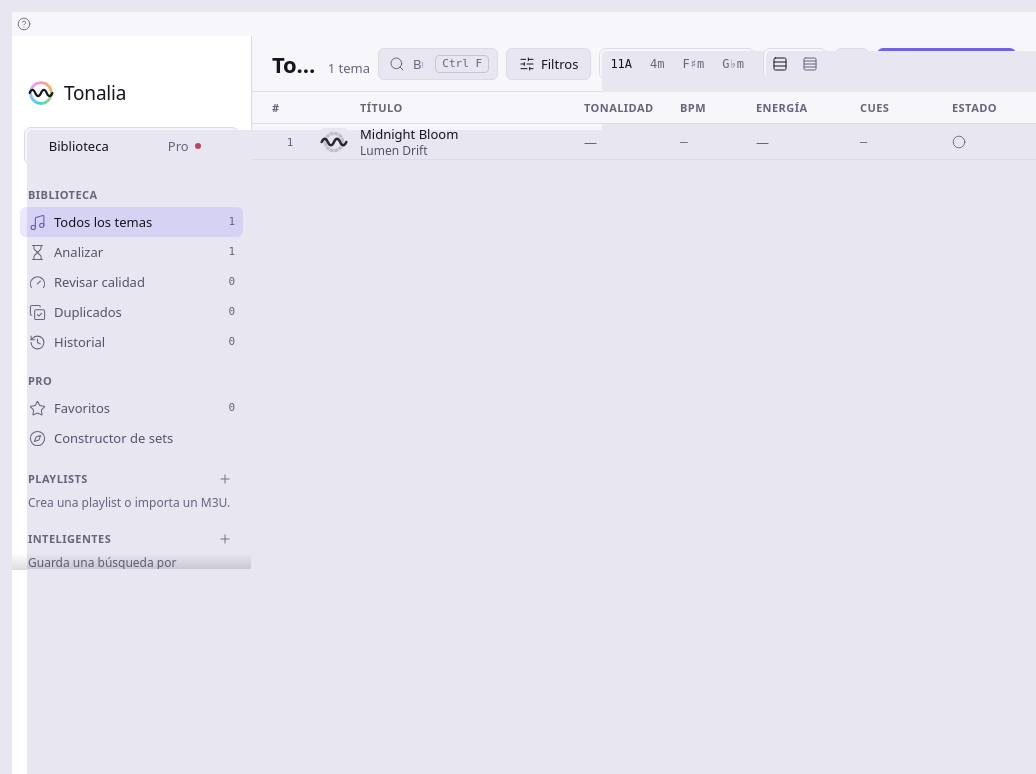
Test: opens at the guide a «?» next to the jargon points to
Click the button named "Qué significa: Niveles de energía (Guías)": coordinates (24, 24) [12,12,36,36]
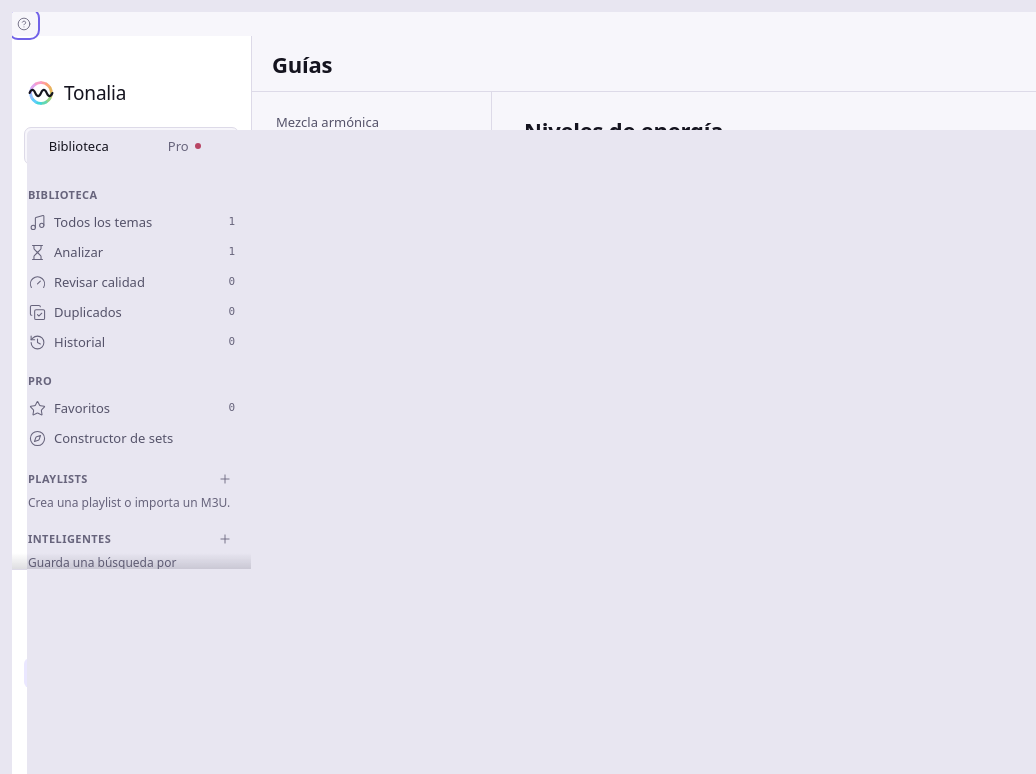
Expected: the heading "Niveles de energía" is shown, [524,115,723,145]
